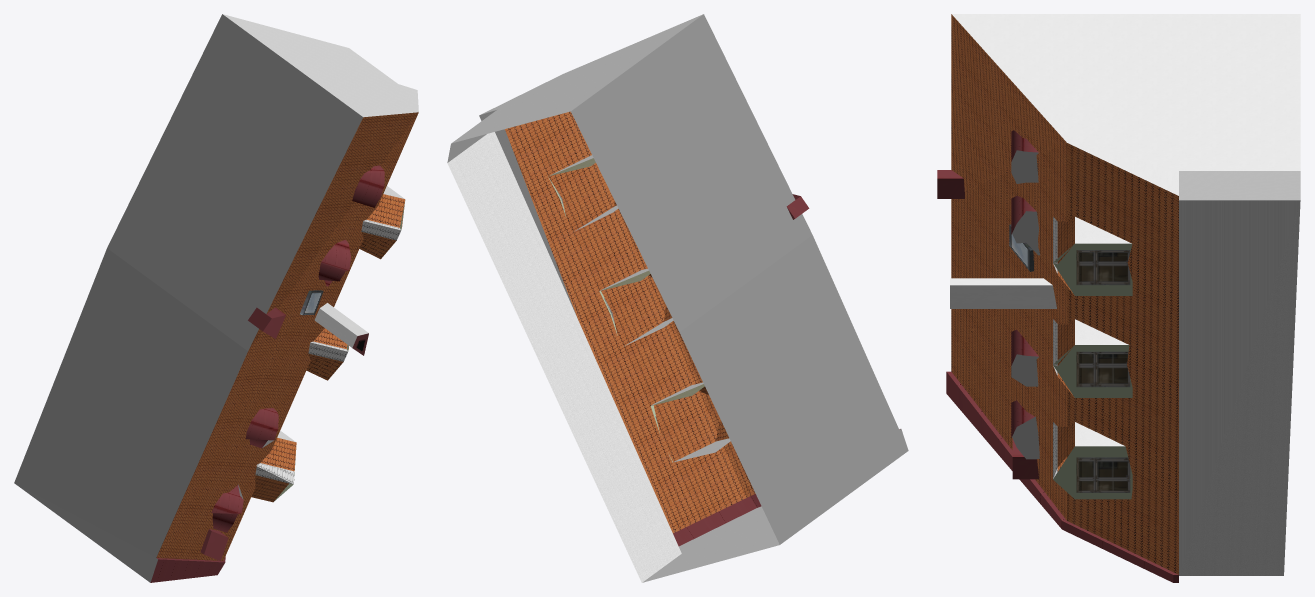
File: Rataskaevu_22_2-origo.obj
3 renders of one model, left to right at view 1: azimuth 30°, elevation 25°; view 2: azimuth 150°, elevation 25°; view 3: azimuth 270°, elevation 25°, orthographic. The views are drawn at different scales.
Visible parts, largest first — view 1: Rataskaevu_22_2; view 2: Rataskaevu_22_2; view 3: Rataskaevu_22_2.
Boxes of the visible parts, x1=… form: Rataskaevu_22_2: x1=14, y1=14, x2=418, y2=582; Rataskaevu_22_2: x1=447, y1=14, x2=908, y2=582; Rataskaevu_22_2: x1=937, y1=14, x2=1300, y2=582.
Size of the model in its own units: 17.44 by 22.5 by 12.27.
